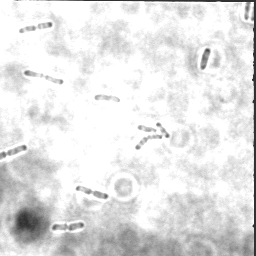microcolony: (128, 117, 168, 148)
rod: (89, 89, 120, 103), (192, 43, 208, 70), (5, 138, 27, 154), (41, 70, 64, 84), (21, 66, 44, 78), (15, 21, 36, 34), (72, 178, 90, 191), (90, 183, 107, 196), (65, 214, 83, 226), (48, 216, 67, 227), (34, 19, 53, 30)
